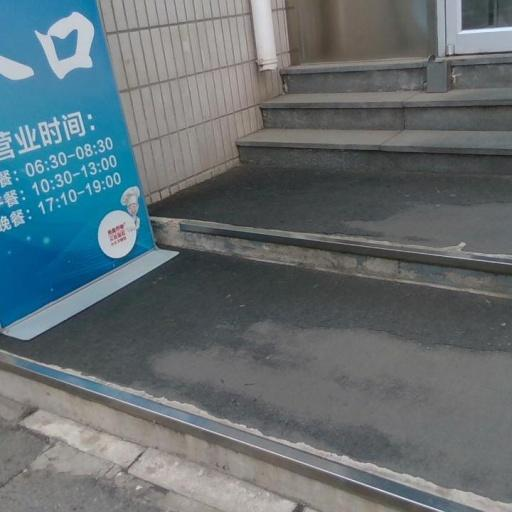stairs: (154, 55, 511, 295), (239, 59, 511, 173)
